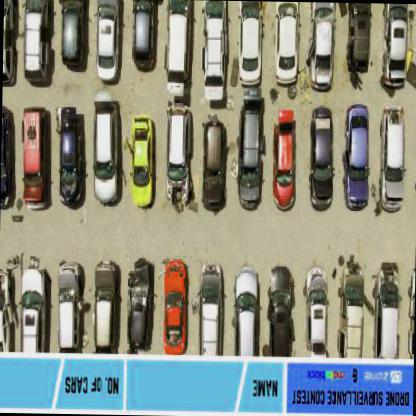car: (92, 93, 122, 204), (164, 106, 194, 211), (378, 105, 406, 213), (341, 106, 370, 210), (307, 107, 336, 209), (55, 108, 85, 206), (19, 0, 53, 86), (237, 96, 263, 208), (21, 105, 49, 206), (272, 110, 299, 212), (379, 4, 408, 94), (124, 258, 152, 351), (164, 1, 192, 92), (201, 118, 228, 211), (232, 266, 260, 354), (267, 266, 294, 356), (18, 258, 44, 351), (375, 261, 400, 357), (339, 264, 364, 356), (130, 115, 155, 207), (201, 3, 224, 103), (93, 259, 118, 350), (162, 258, 186, 352), (54, 262, 79, 352), (198, 259, 222, 352), (57, 0, 88, 72), (309, 3, 334, 92), (95, 0, 121, 83), (302, 266, 326, 355), (236, 2, 262, 84), (274, 3, 298, 86), (130, 0, 156, 70), (347, 3, 372, 72), (1, 106, 13, 209), (3, 0, 17, 87), (0, 267, 14, 352)
